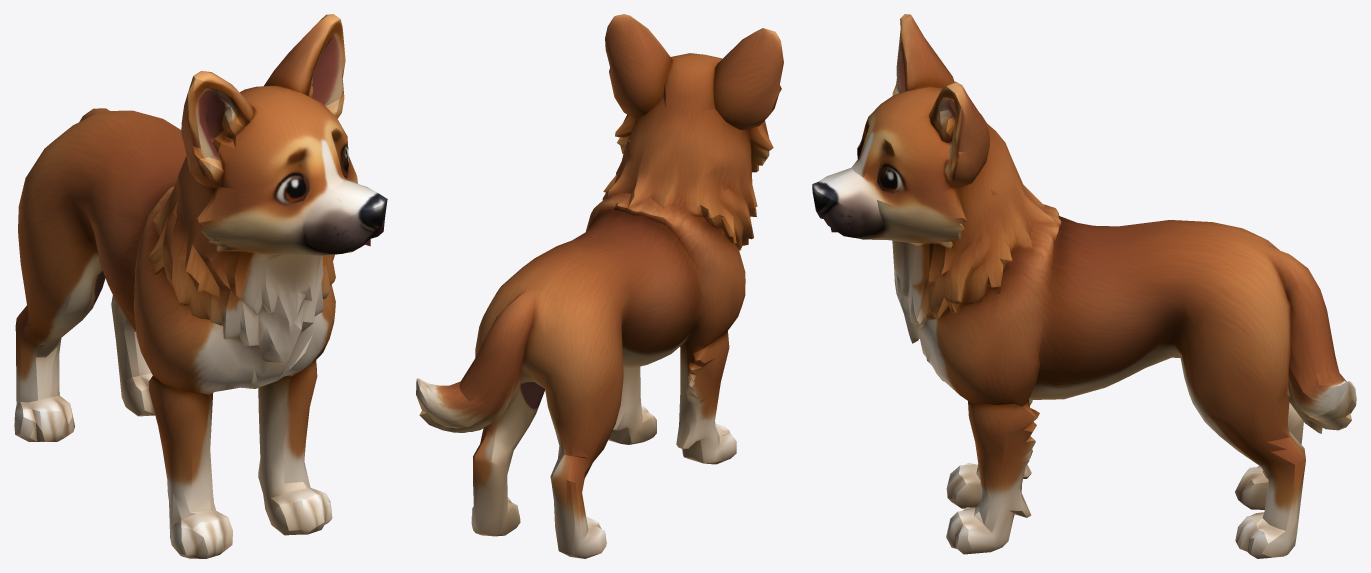
File: MotiDog.glb
3 renders of one model, left to right at view 1: azimuth 30°, elevation 25°; view 2: azimuth 150°, elevation 25°; view 3: azimuth 270°, elevation 25°, orthographic. The views are drawn at different scales.
Visible parts, largest first — view 1: geometry_0; view 2: geometry_0; view 3: geometry_0.
Part boxes in pixels (<box>): geometry_0: <box>14,14,387,558</box>; geometry_0: <box>416,14,783,558</box>; geometry_0: <box>812,14,1356,558</box>.
Size of the model in its own units: 0.4157 by 0.9558 by 1.
Materials: 1 (1 with a texture image).
